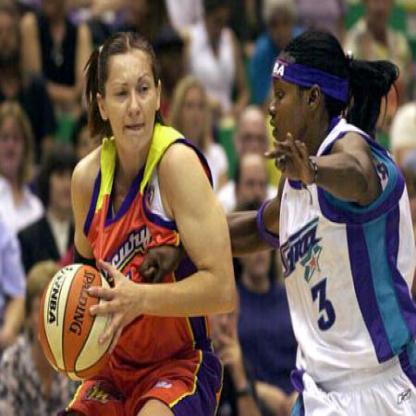face: (105, 33, 159, 156), (266, 46, 312, 155), (50, 145, 81, 211), (239, 154, 271, 217), (240, 109, 269, 172), (180, 77, 208, 140), (1, 108, 27, 172), (78, 114, 105, 174), (268, 1, 294, 53)
